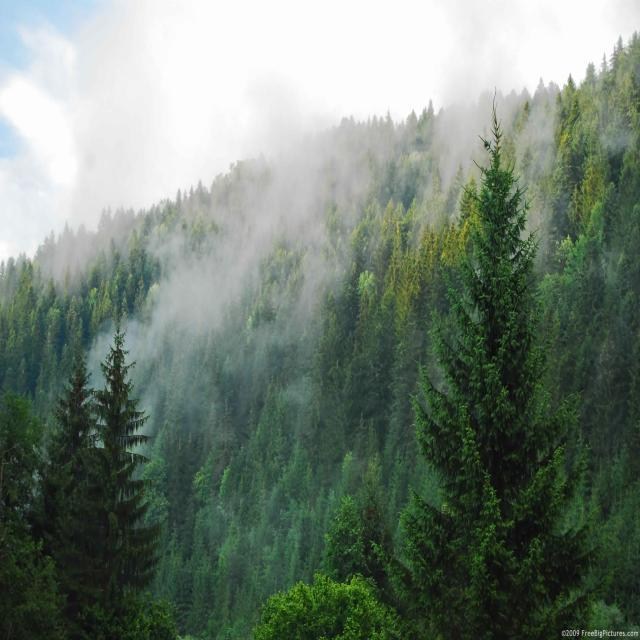Smoke: (245, 30, 586, 219), (86, 201, 362, 405)
